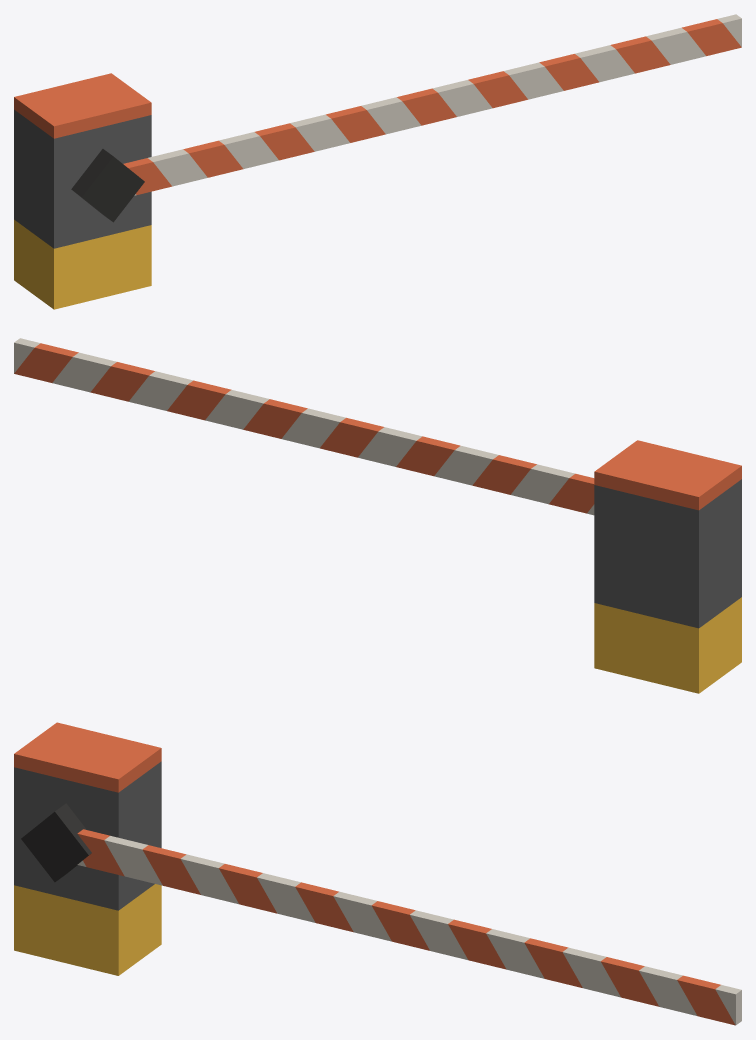
File: Barrier_1.fbx
3 renders of one model, top to bottom at view 1: azimuth 30°, elevation 25°; view 2: azimuth 150°, elevation 25°; view 3: azimuth 330°, elevation 25°, orthographic. The views are drawn at different scales.
Visible parts, largest first — view 1: Barrier_1; view 2: Barrier_1; view 3: Barrier_1.
Boxes of the visible parts, bbox=[...] form: Barrier_1: bbox=[14, 14, 741, 309]; Barrier_1: bbox=[14, 338, 741, 693]; Barrier_1: bbox=[14, 722, 741, 1025].
Bounding box in the file's own units: 7.84 × 2.02 × 1.01.
Materials: 1 (1 with a texture image).
